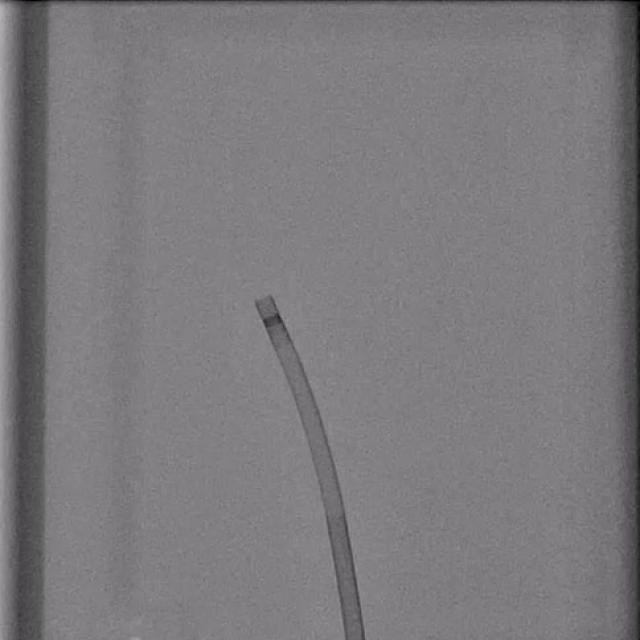bend: (323, 500, 345, 517)
entry: (344, 635, 366, 640)
marker: (260, 313, 286, 328)
tip: (253, 295, 276, 306)
